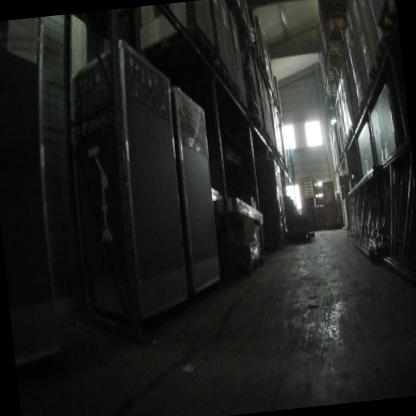pallet: (372, 0, 399, 43), (213, 60, 231, 88), (358, 96, 372, 114), (326, 40, 341, 54), (249, 107, 260, 125), (239, 96, 249, 115), (326, 71, 339, 80), (348, 122, 356, 136), (326, 83, 337, 92), (257, 124, 264, 135), (346, 133, 353, 143), (344, 140, 349, 149), (339, 154, 343, 160), (334, 167, 337, 172)
